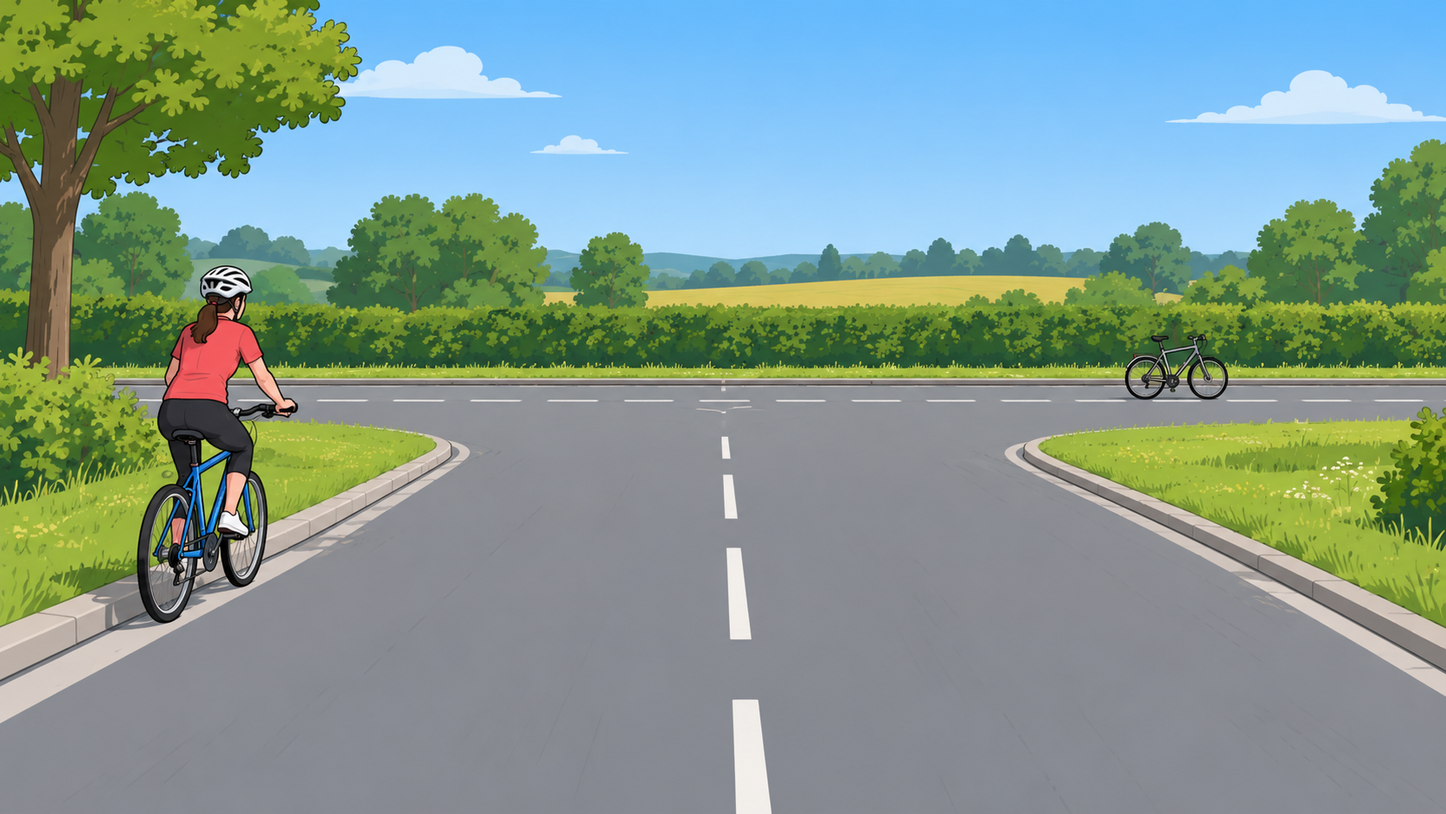bicycle: (130, 394, 298, 627), (1123, 332, 1231, 401)
person: (158, 266, 298, 497)
